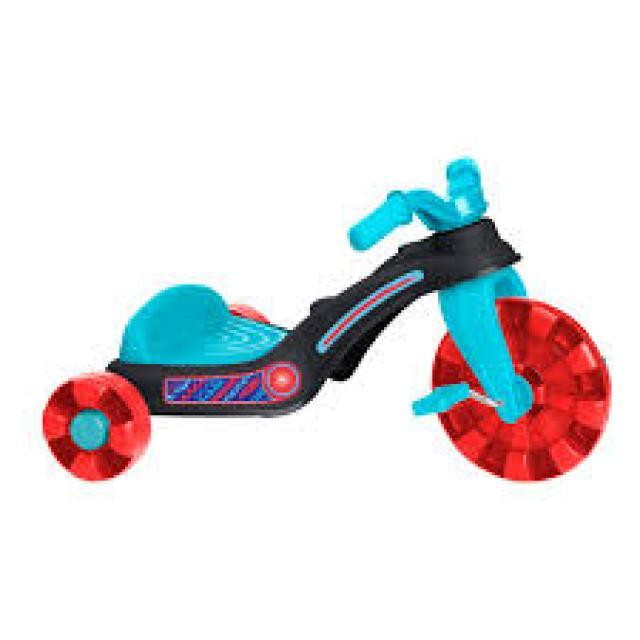hard-toy: (44, 160, 609, 480)
